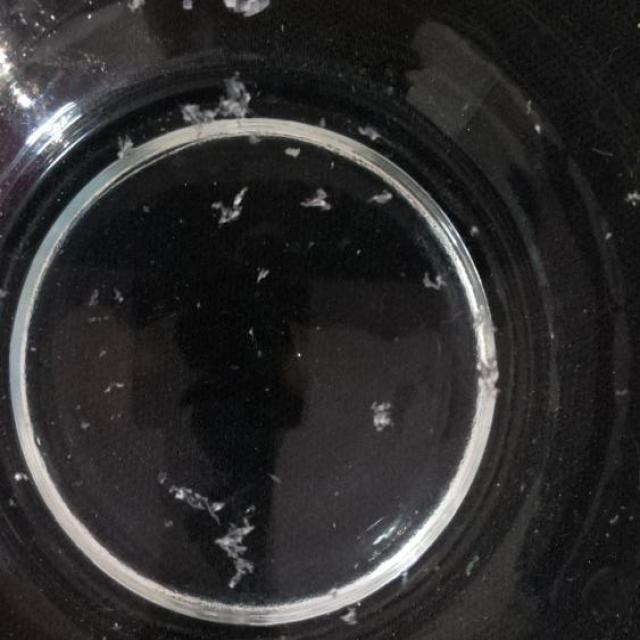fiber: (176, 74, 262, 135), (215, 509, 269, 599), (160, 482, 224, 522), (292, 183, 338, 220), (215, 184, 245, 233), (374, 392, 397, 445), (227, 0, 281, 19), (358, 110, 381, 152), (250, 256, 273, 296), (76, 280, 105, 311), (425, 267, 454, 296), (341, 604, 365, 639), (273, 142, 309, 164), (465, 215, 491, 243), (116, 131, 136, 167), (110, 280, 136, 306), (8, 467, 37, 489), (368, 181, 392, 206), (0, 268, 15, 308), (127, 0, 152, 20), (178, 0, 204, 19), (313, 110, 333, 134), (91, 626, 125, 639), (624, 183, 639, 211)
